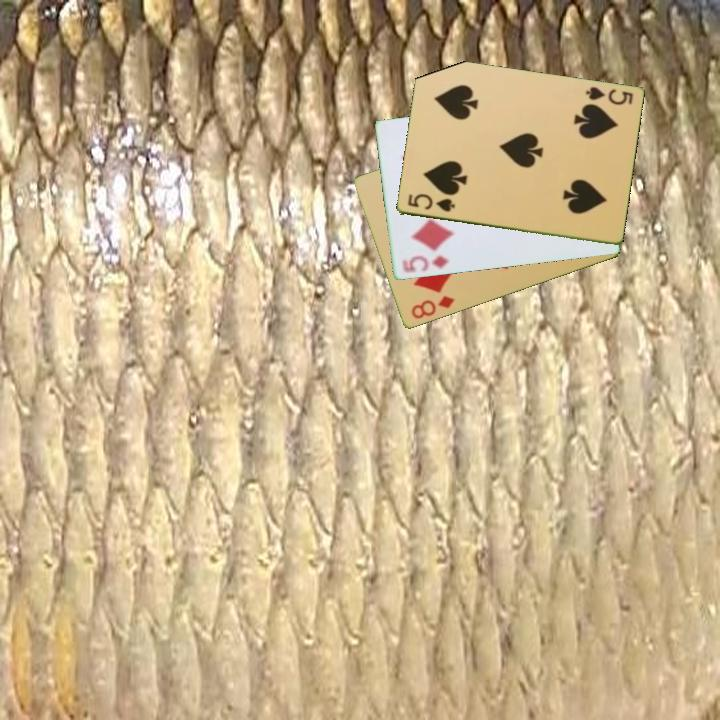5d: (398, 253, 452, 274)
5s: (582, 83, 635, 108), (404, 191, 457, 215)
8d: (408, 292, 457, 322)
